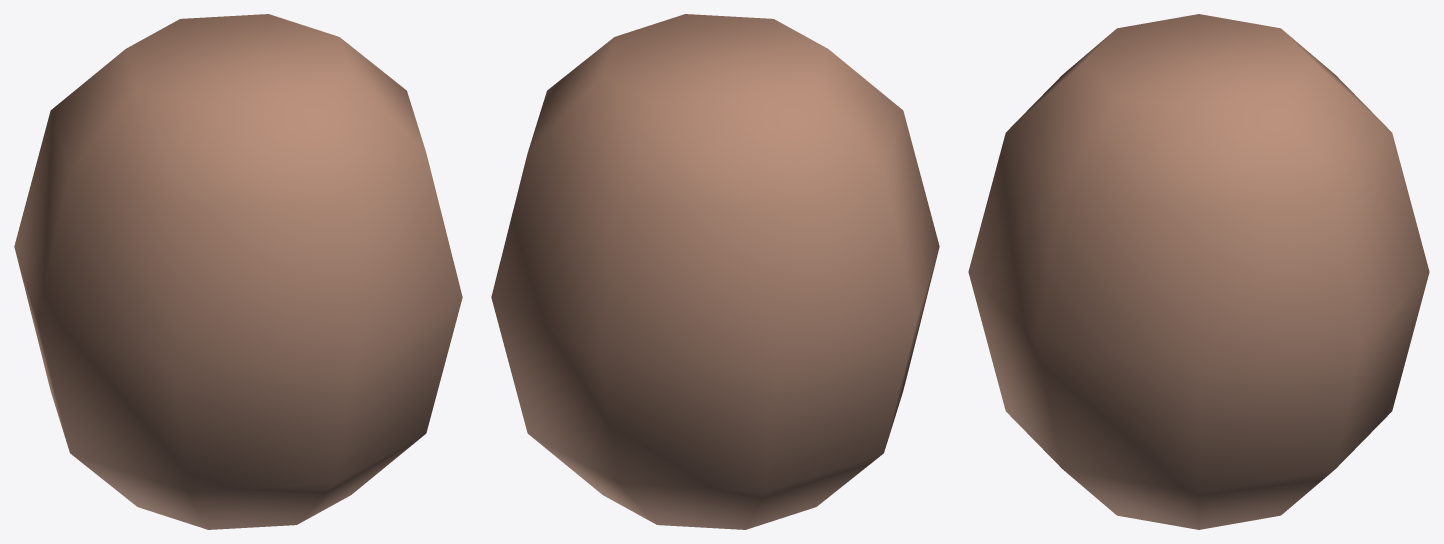
The model's file is coconut.glb.
3 renders of one model, left to right at view 1: azimuth 30°, elevation 25°; view 2: azimuth 150°, elevation 25°; view 3: azimuth 270°, elevation 25°, orthographic.
Parts seen in each view (by area): view 1: coconut; view 2: coconut; view 3: coconut.
Boxes of the visible parts, x1,y1,x2,y2 form: coconut: (14, 14, 462, 529); coconut: (491, 14, 939, 529); coconut: (968, 14, 1429, 529).
Size of the model in its own units: 0.2484 by 0.2484 by 0.2484.
